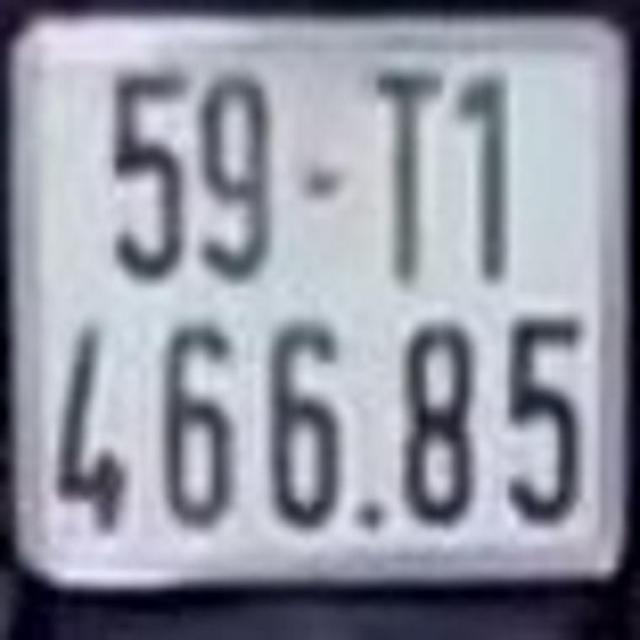1: (456, 57, 520, 281)
4: (47, 314, 132, 536)
5: (502, 302, 589, 524), (105, 65, 194, 282)
6: (160, 322, 237, 528), (269, 316, 341, 524)
8: (401, 314, 480, 528)
9: (196, 69, 275, 284)
T: (366, 55, 446, 284)
